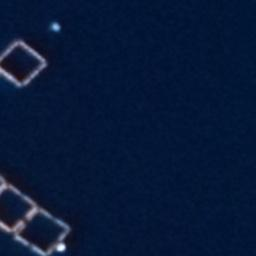square_solid: (9, 202, 79, 256), (1, 35, 52, 94), (1, 176, 41, 241)
